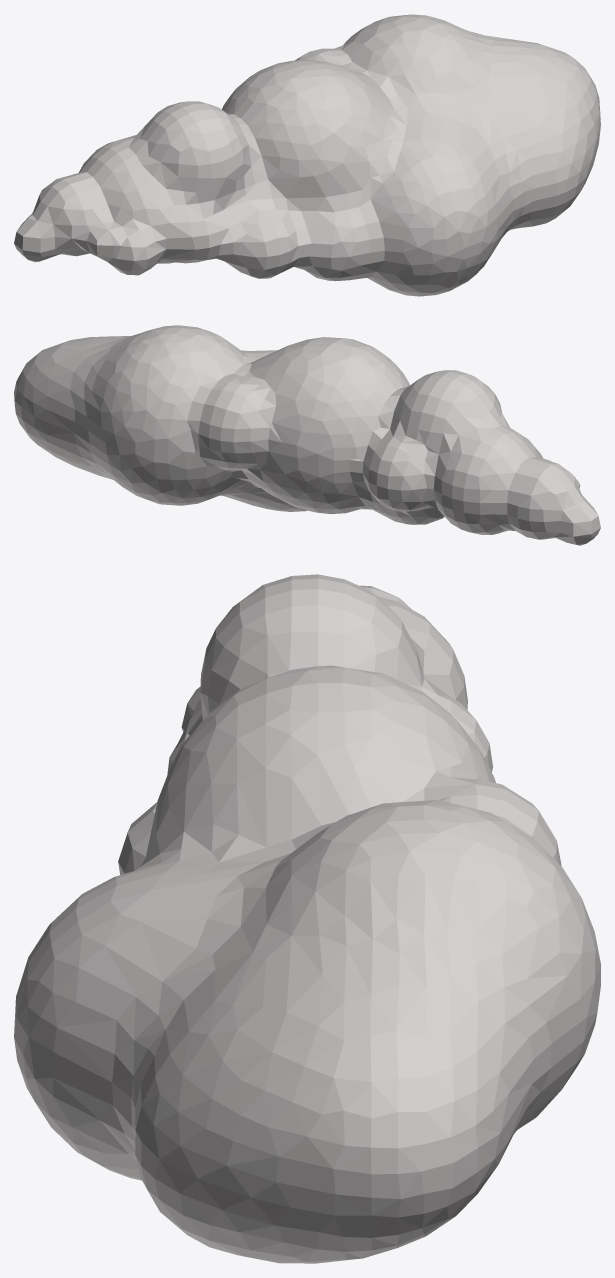
The model's file is Clloud4fbx.fbx.
The picture shows the model from 3 angles, top to bottom: view 1: azimuth 30°, elevation 25°; view 2: azimuth 150°, elevation 25°; view 3: azimuth 270°, elevation 25°; orthographic projection. The views are drawn at different scales.
Parts seen in each view (by area): view 1: Mball.001; view 2: Mball.001; view 3: Mball.001.
Boxes of the visible parts, x1=… form: Mball.001: x1=14, y1=14, x2=600, y2=296; Mball.001: x1=14, y1=325, x2=600, y2=545; Mball.001: x1=14, y1=574, x2=600, y2=1263.
Bounding box in the file's own units: 98684 × 34242 × 44266.
